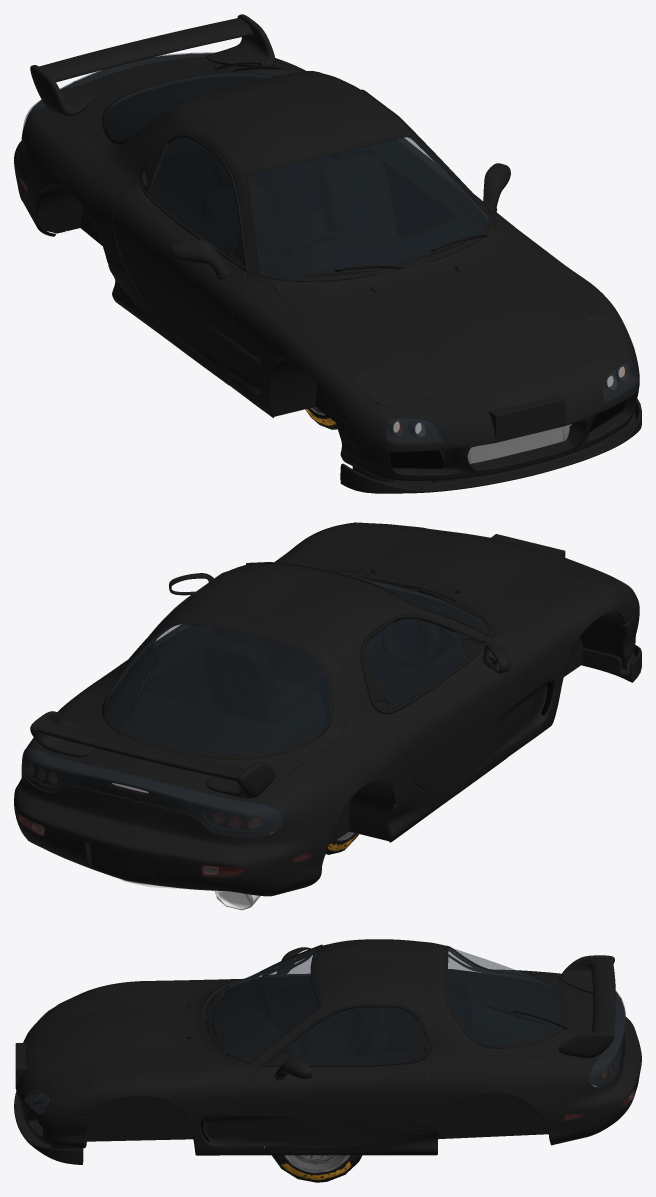
The picture shows the model from 3 angles, top to bottom: view 1: azimuth 30°, elevation 25°; view 2: azimuth 150°, elevation 25°; view 3: azimuth 270°, elevation 25°; orthographic projection. The views are drawn at different scales.
Visible parts, largest first — view 1: body; view 2: body; view 3: body, wheel.
Part boxes in pixels (x1,y1,x2,y2): body: [14, 14, 641, 493]; body: [14, 522, 641, 910]; body: [14, 939, 641, 1164]; wheel: [272, 1155, 362, 1182].
Size of what is drawn, in the model's own units: 2.03 by 1.62 by 4.28.
Materials: 6 (1 with a texture image).
